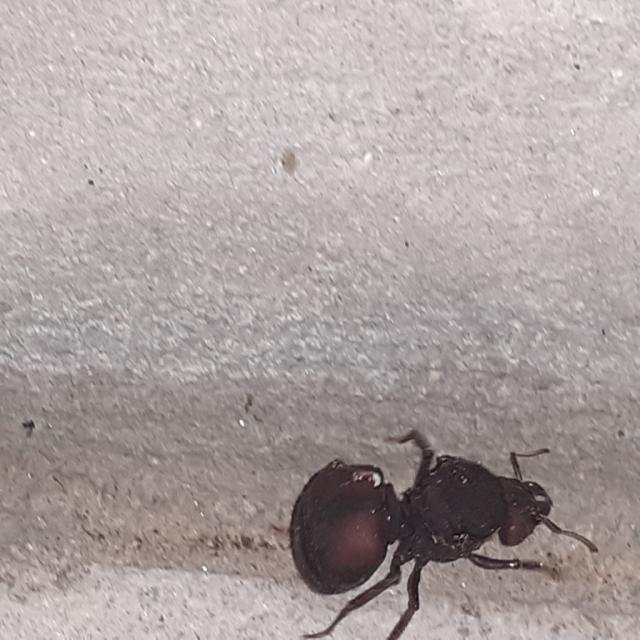Alive-Female-Dealate: (289, 429, 599, 640)
